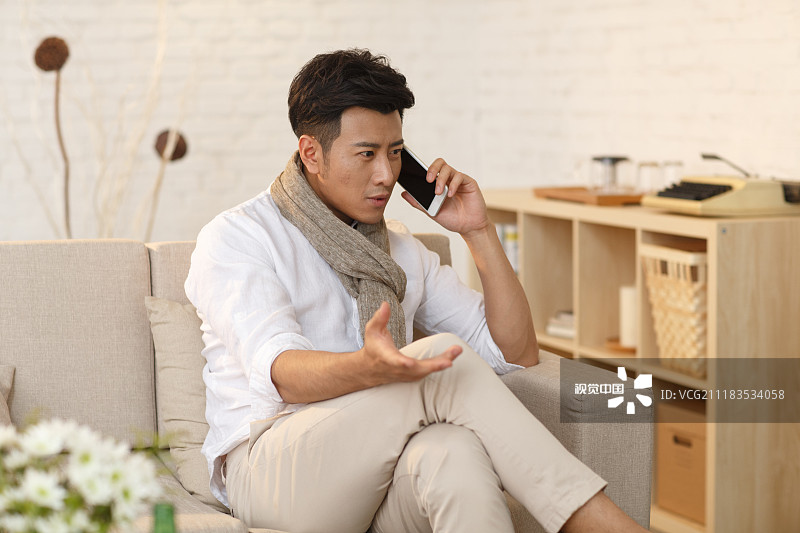calling: (387, 140, 512, 253)
no-phone: (335, 295, 472, 402)
